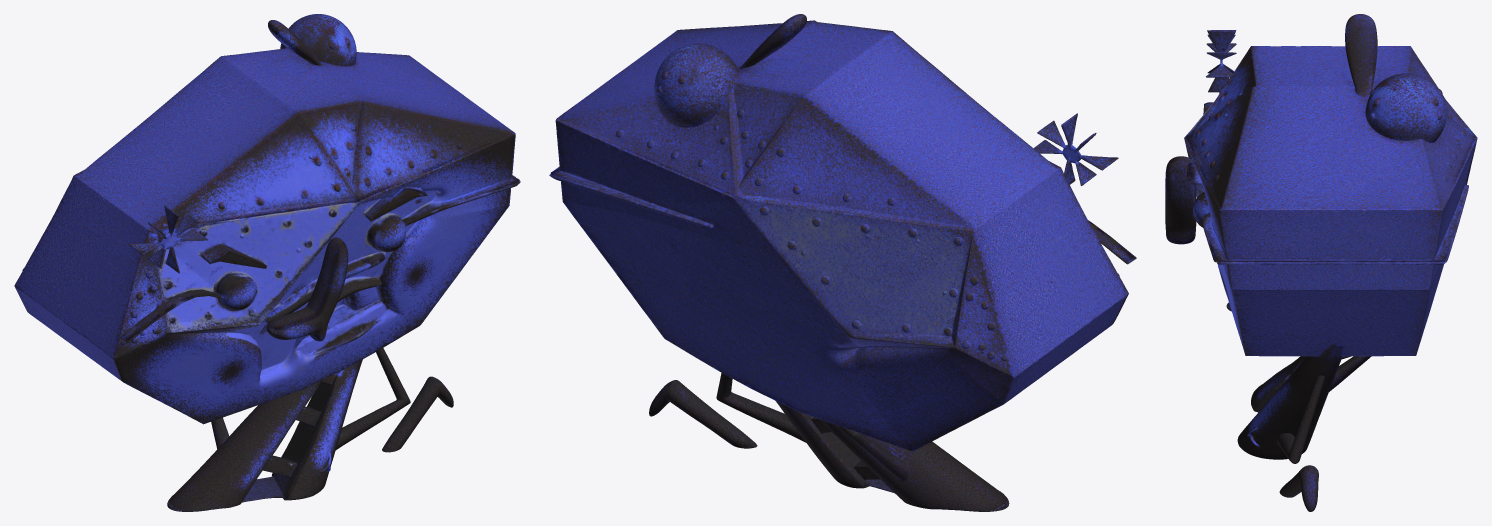
The model's file is kid2.glb.
3 renders of one model, left to right at view 1: azimuth 30°, elevation 25°; view 2: azimuth 150°, elevation 25°; view 3: azimuth 270°, elevation 25°, orthographic. The views are drawn at different scales.
Visible parts, largest first — view 1: stylized cube character 3d model; view 2: stylized cube character 3d model; view 3: stylized cube character 3d model.
Part boxes in pixels (x1,y1,x2,y2): stylized cube character 3d model: [14, 14, 520, 511]; stylized cube character 3d model: [549, 14, 1136, 511]; stylized cube character 3d model: [1165, 14, 1477, 511].
Bounding box in the file's own units: 0.9389 × 0.9511 × 0.608.
Materials: 1 (1 with a texture image).
